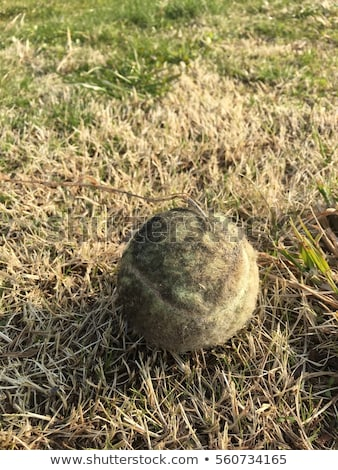tennis_ball: (115, 207, 261, 356)
